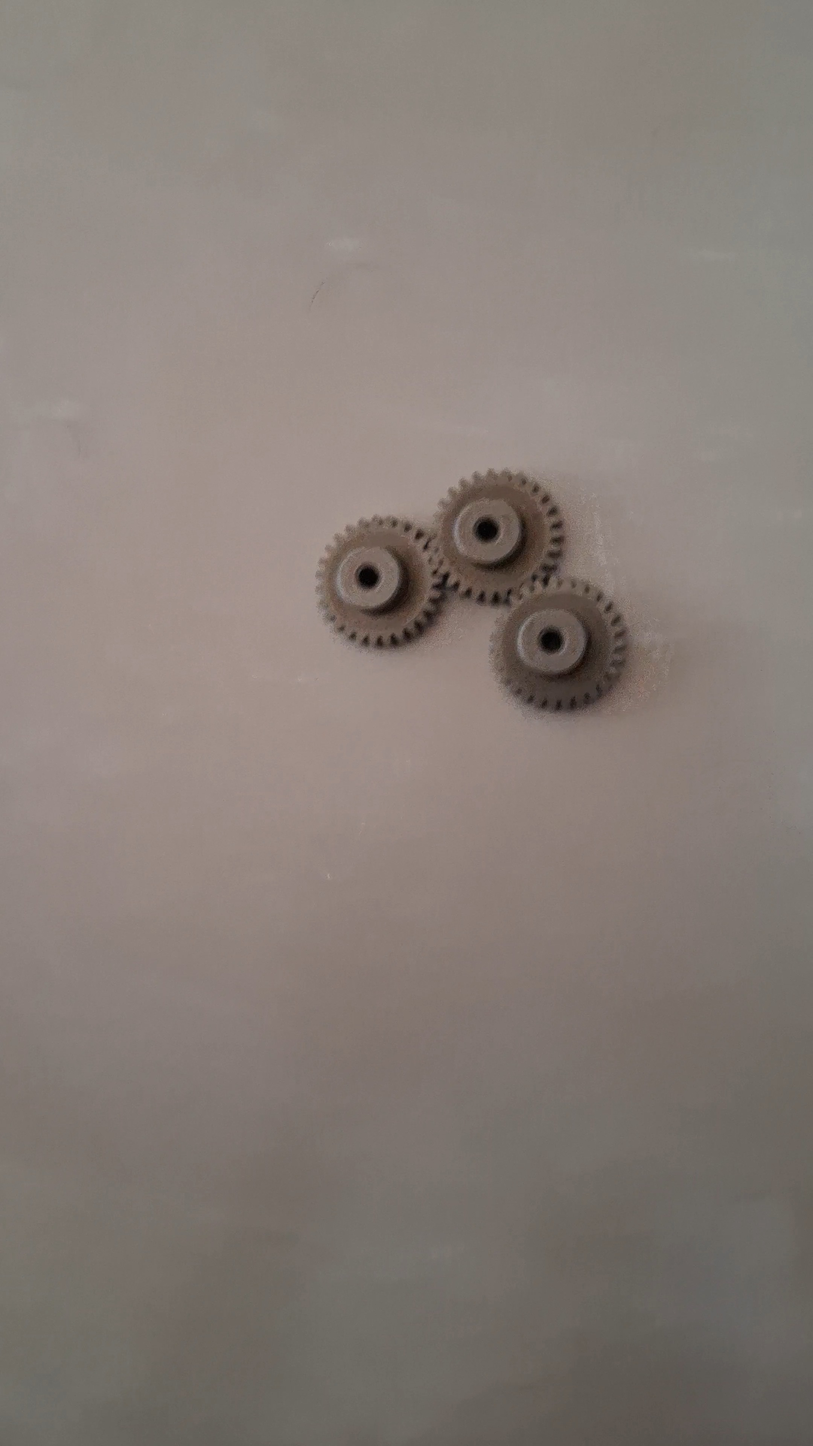spur gear: (491, 576, 627, 710), (434, 471, 563, 603), (317, 516, 443, 647)
